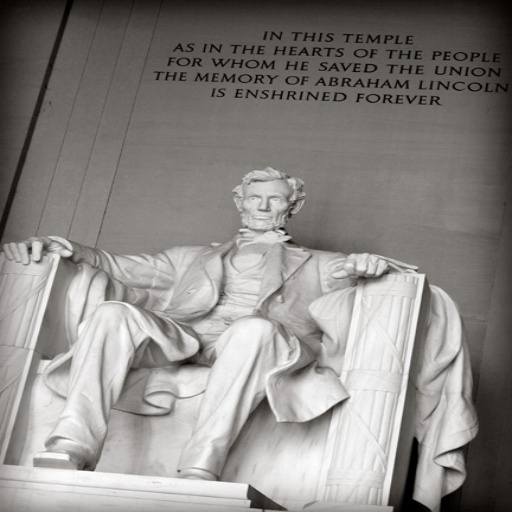hand: (9, 231, 78, 271), (327, 250, 391, 280)
